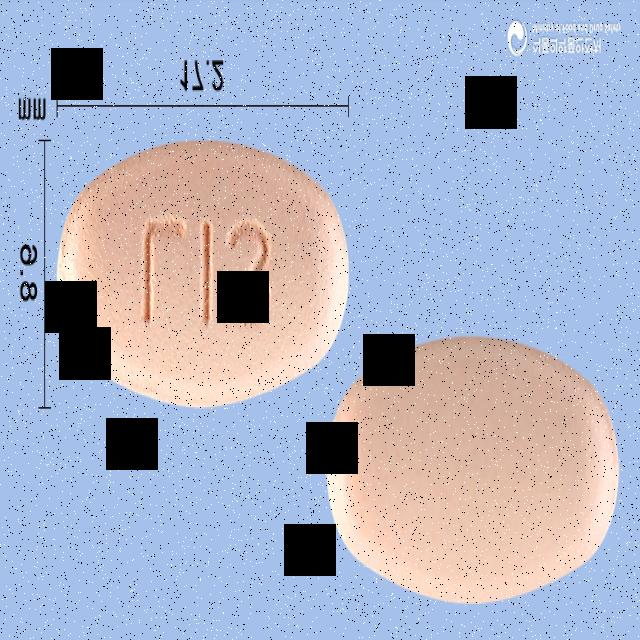Levoable: (325, 338, 622, 606), (58, 142, 350, 408)
